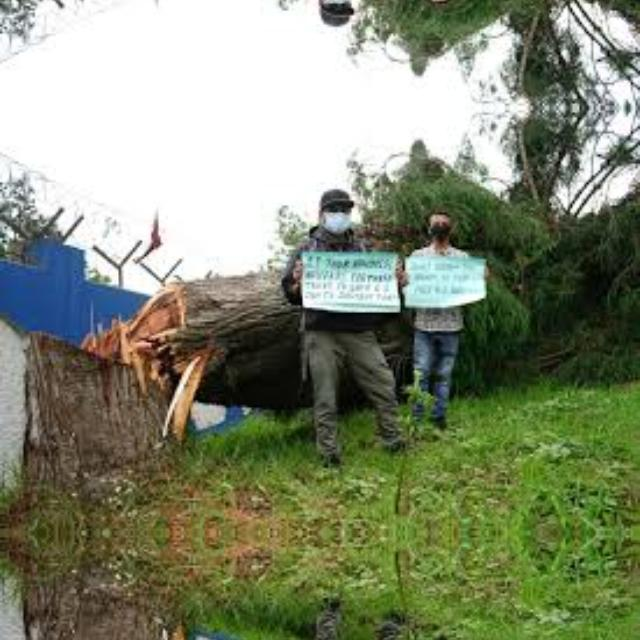person: (280, 168, 400, 462), (405, 201, 493, 449), (279, 0, 400, 46), (279, 603, 400, 640), (405, 616, 493, 640), (405, 0, 493, 13)
